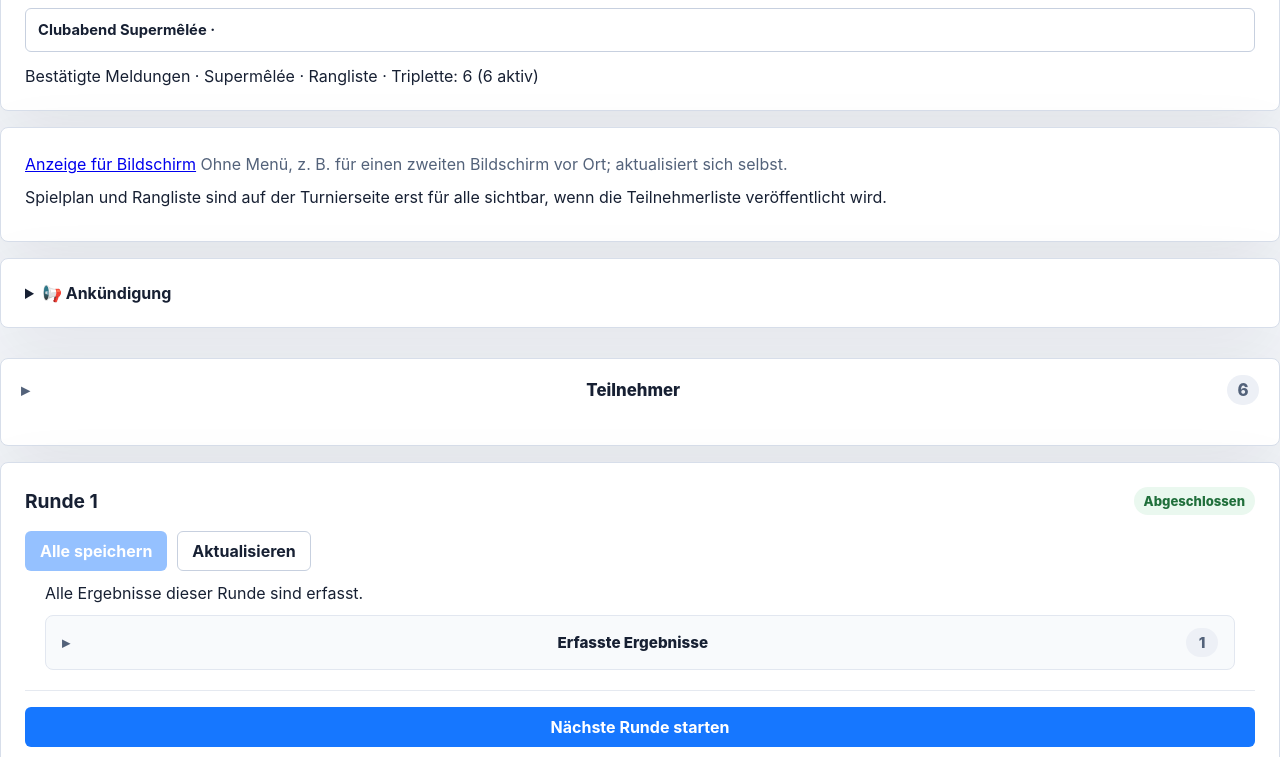
Test: TournamentPlayManagement › erstellt über den Button eine neue Runde, sobald alle Ergebnisse der aktuellen Runde feststehen
The image size is (1280, 757).
Click the button "Nächste Runde starten" at (640, 727), box [25,707,1255,747]
(page scrolled)
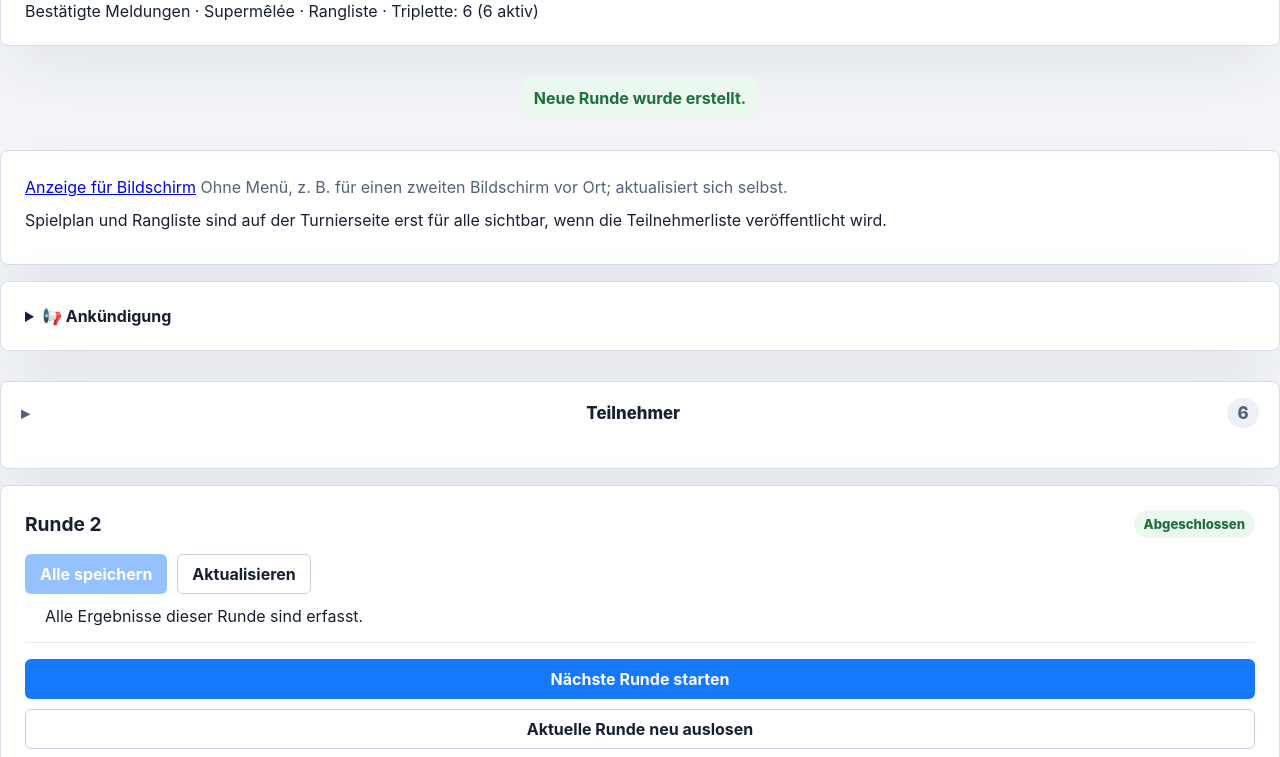
Expected: the text "Neue Runde wurde erstellt." is shown, [522,78,758,118]
